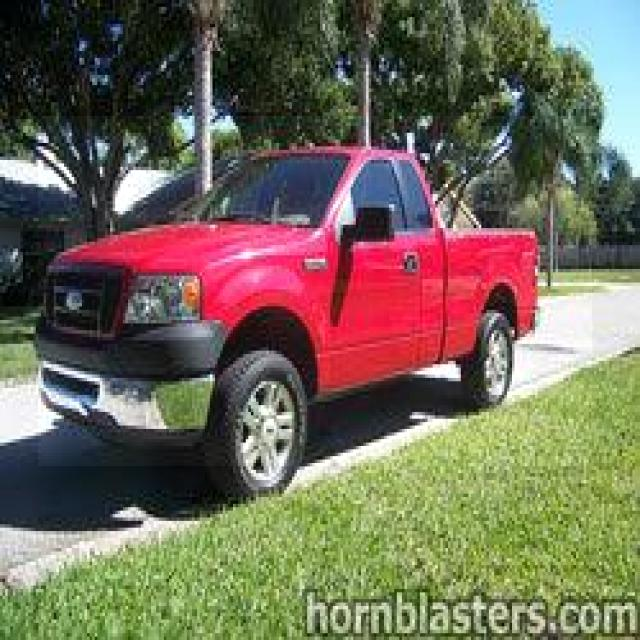Car: (38, 116, 592, 466)
